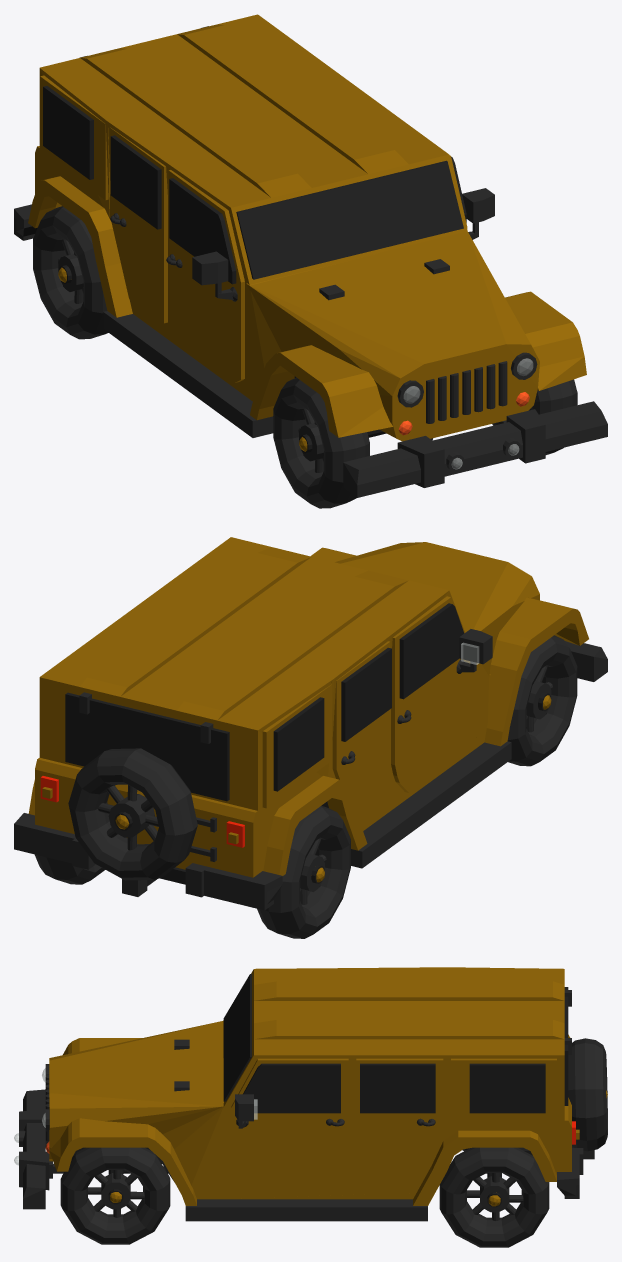
File: Wrangler_Y.glb
3 renders of one model, top to bottom at view 1: azimuth 30°, elevation 25°; view 2: azimuth 150°, elevation 25°; view 3: azimuth 270°, elevation 25°, orthographic. The views are drawn at different scales.
Visible parts, largest first — view 1: Node-Mesh, Node-Mesh_1, Node-Mesh_2, Node-Mesh_5; view 2: Node-Mesh, Node-Mesh_1, Node-Mesh_2, Node-Mesh_3; view 3: Node-Mesh, Node-Mesh_1, Node-Mesh_2.
Boxes of the visible parts, x1=… form: Node-Mesh: x1=28, y1=14, x2=586, y2=451; Node-Mesh_1: x1=14, y1=26, x2=607, y2=508; Node-Mesh_2: x1=23, y1=86, x2=466, y2=453; Node-Mesh_5: x1=404, y1=358, x2=532, y2=469; Node-Mesh: x1=28, y1=537, x2=588, y2=882; Node-Mesh_1: x1=14, y1=629, x2=607, y2=938; Node-Mesh_2: x1=65, y1=603, x2=550, y2=886; Node-Mesh_3: x1=40, y1=776, x2=244, y2=847; Node-Mesh: x1=49, y1=967, x2=607, y2=1206; Node-Mesh_1: x1=19, y1=990, x2=607, y2=1247; Node-Mesh_2: x1=108, y1=974, x2=574, y2=1207.
Size of the model in its own units: 0.72 by 0.56 by 1.57.
